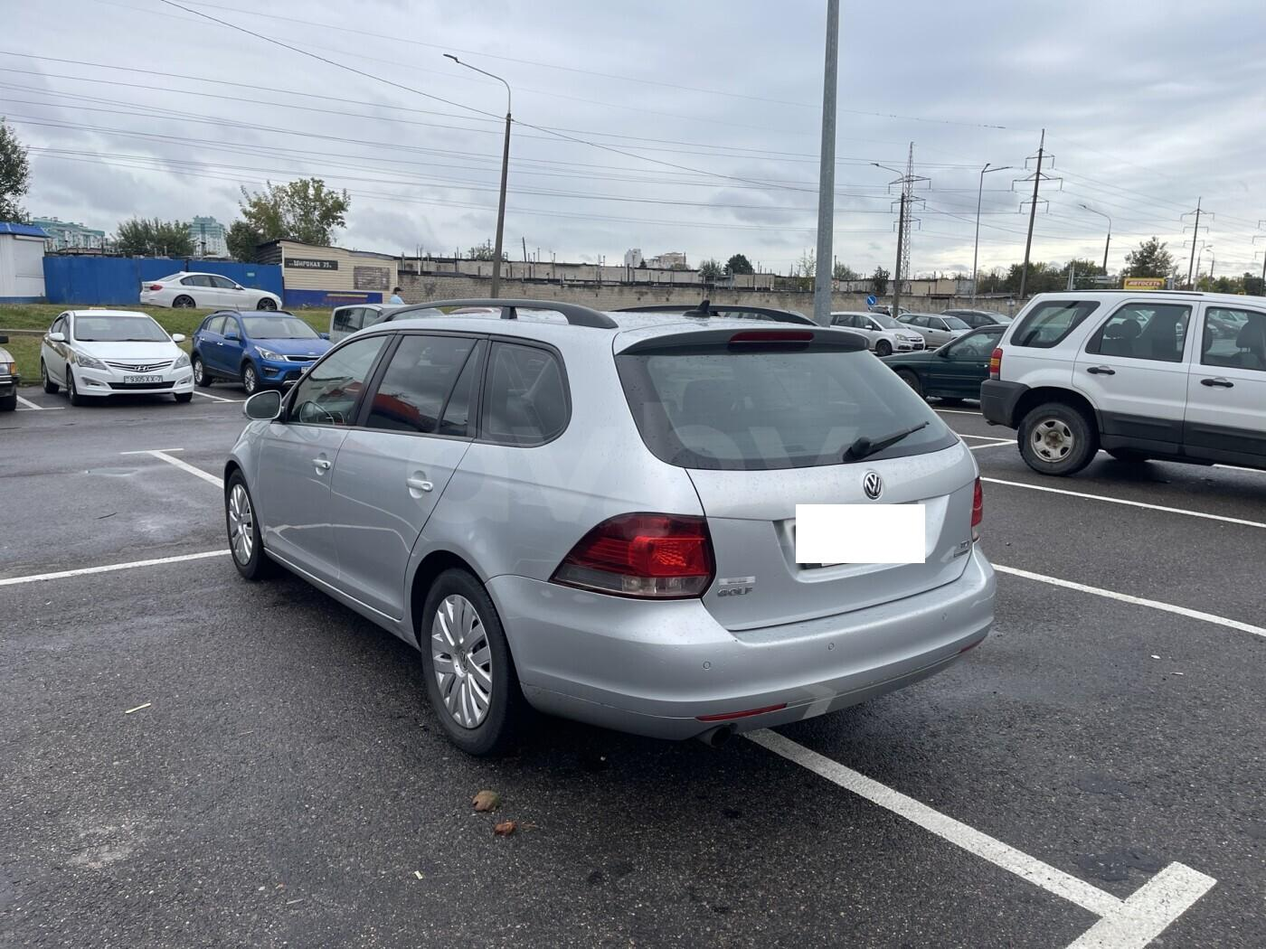Golf_2008-2013: (215, 306, 992, 757)
